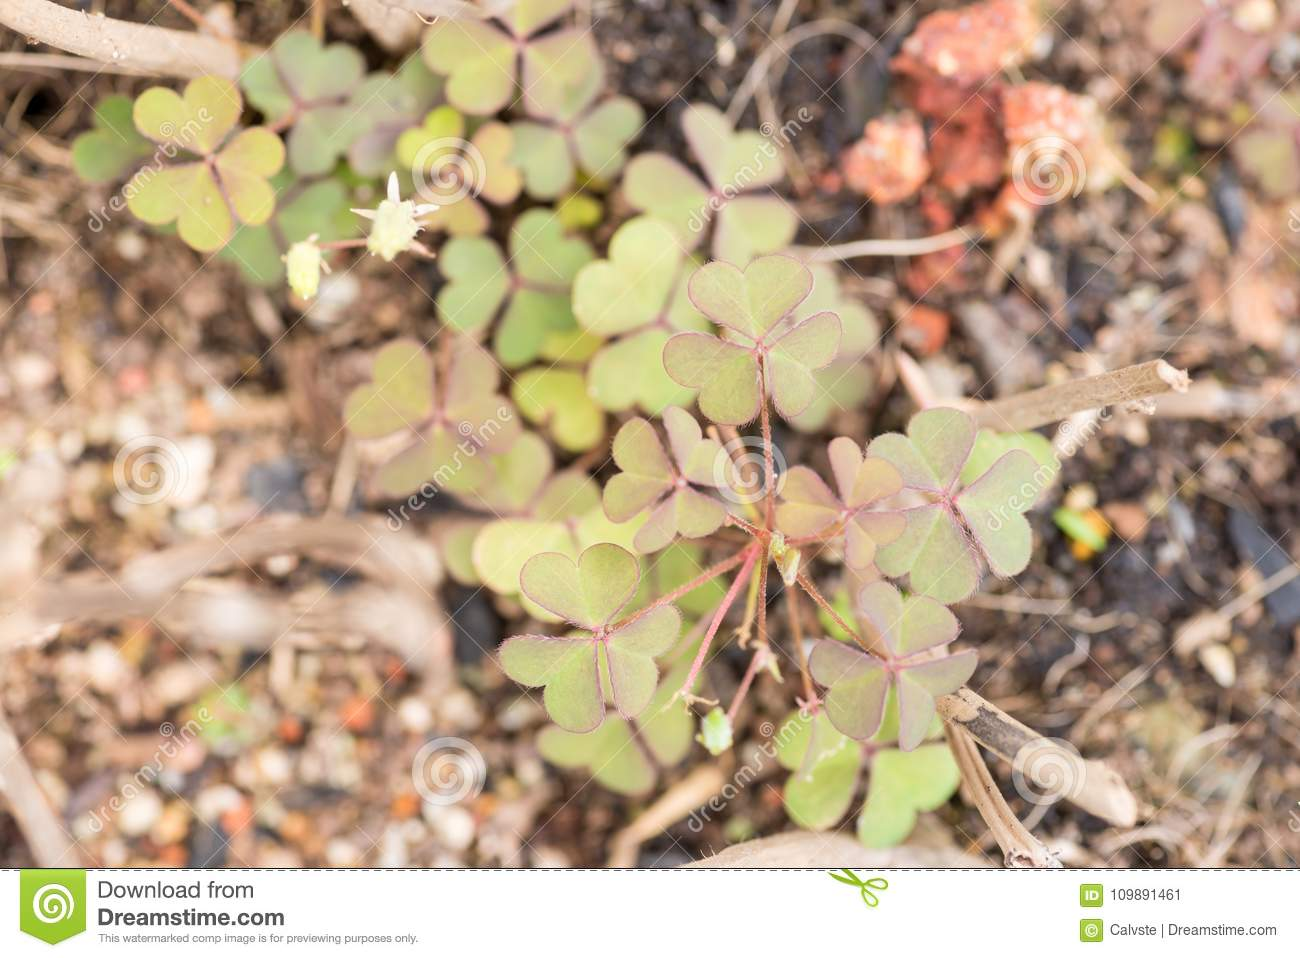oxalis: (208, 105, 1130, 734)
